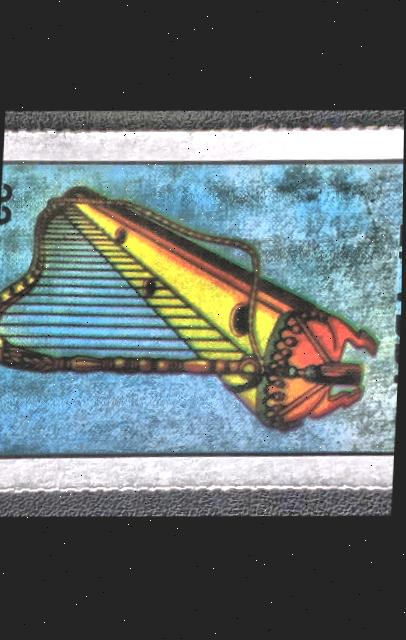El Arpa: (0, 140, 404, 483)
